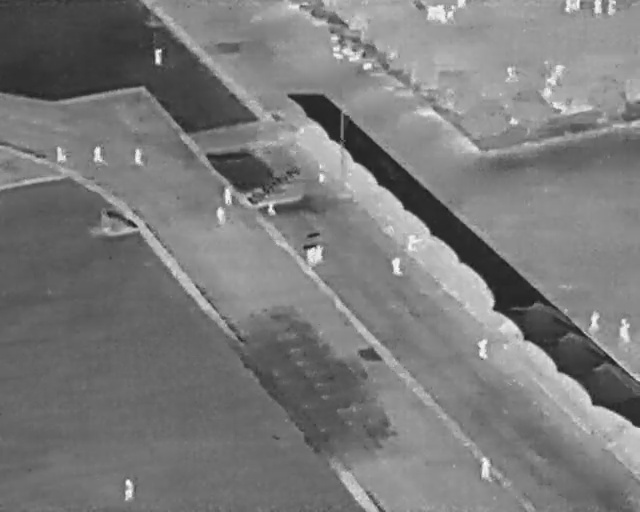DontCare: (503, 55, 573, 101), (327, 31, 382, 74), (422, 0, 469, 27), (560, 0, 587, 16)
Person: (618, 319, 632, 345), (589, 310, 600, 334), (480, 457, 491, 479), (125, 478, 135, 501), (478, 339, 489, 359), (93, 145, 104, 164), (392, 257, 403, 276), (56, 146, 67, 163), (216, 207, 226, 225), (607, 0, 618, 16), (154, 48, 163, 67), (223, 188, 233, 205), (593, 0, 603, 17), (134, 148, 143, 166), (315, 245, 324, 263), (307, 248, 315, 265), (267, 201, 276, 215), (319, 166, 326, 184)
